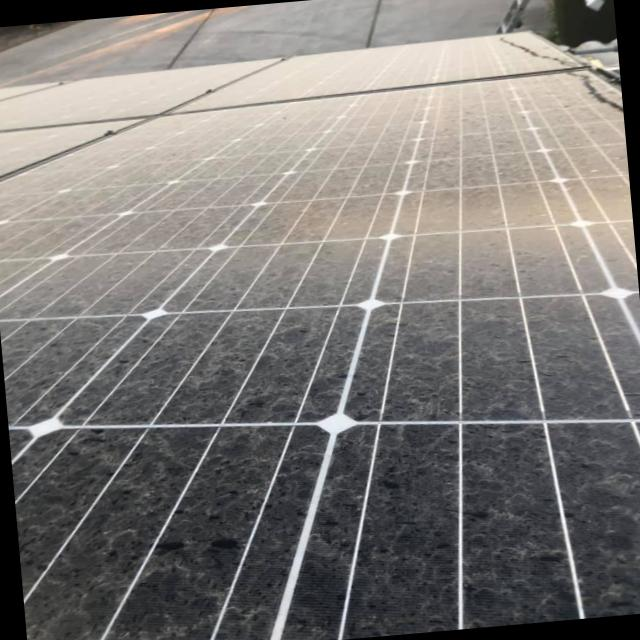faulty: (0, 63, 640, 640)
